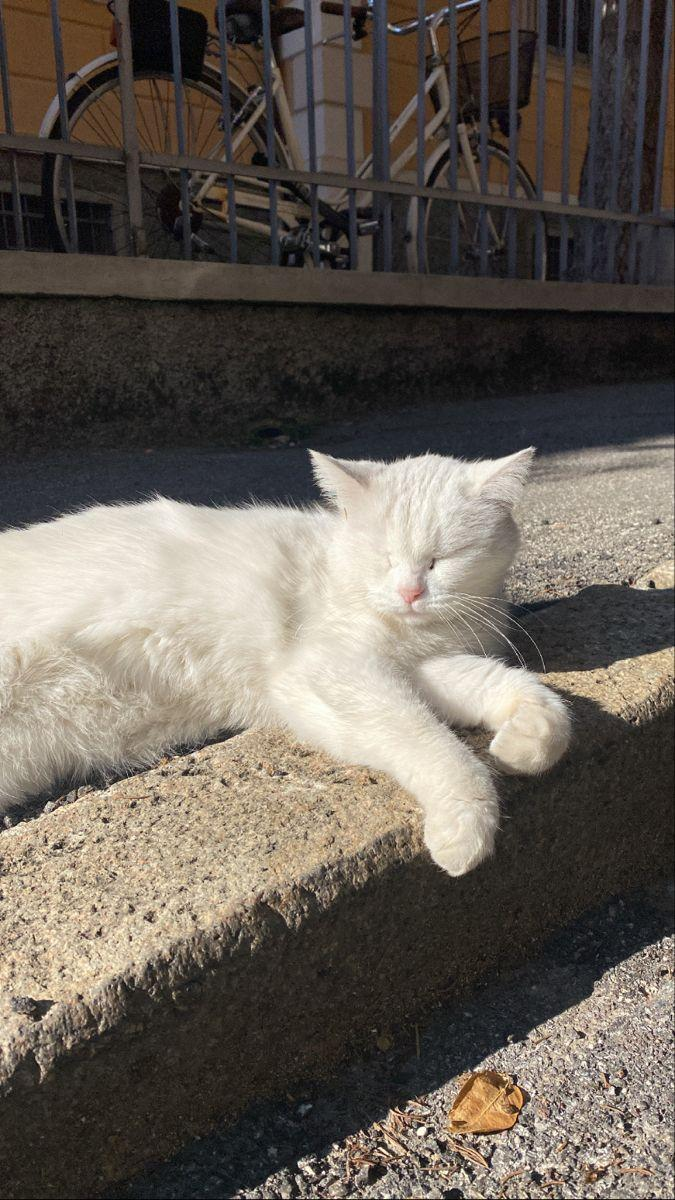kedo: (1, 449, 569, 875)
